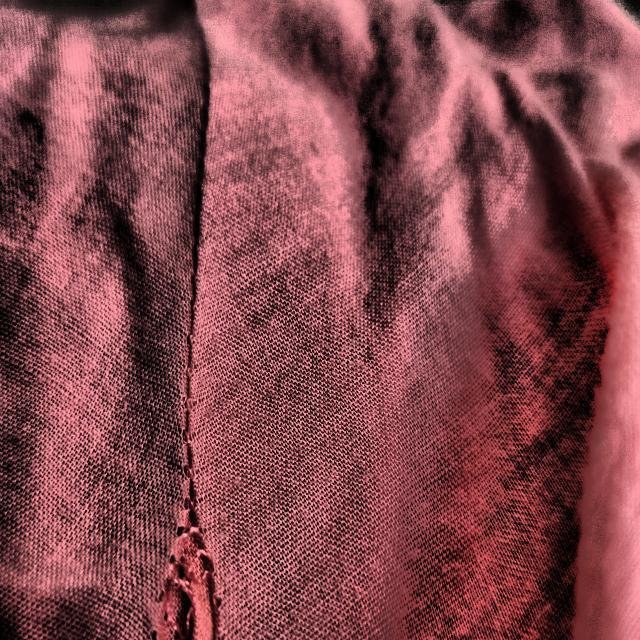gray stitch: (135, 438, 238, 640)
